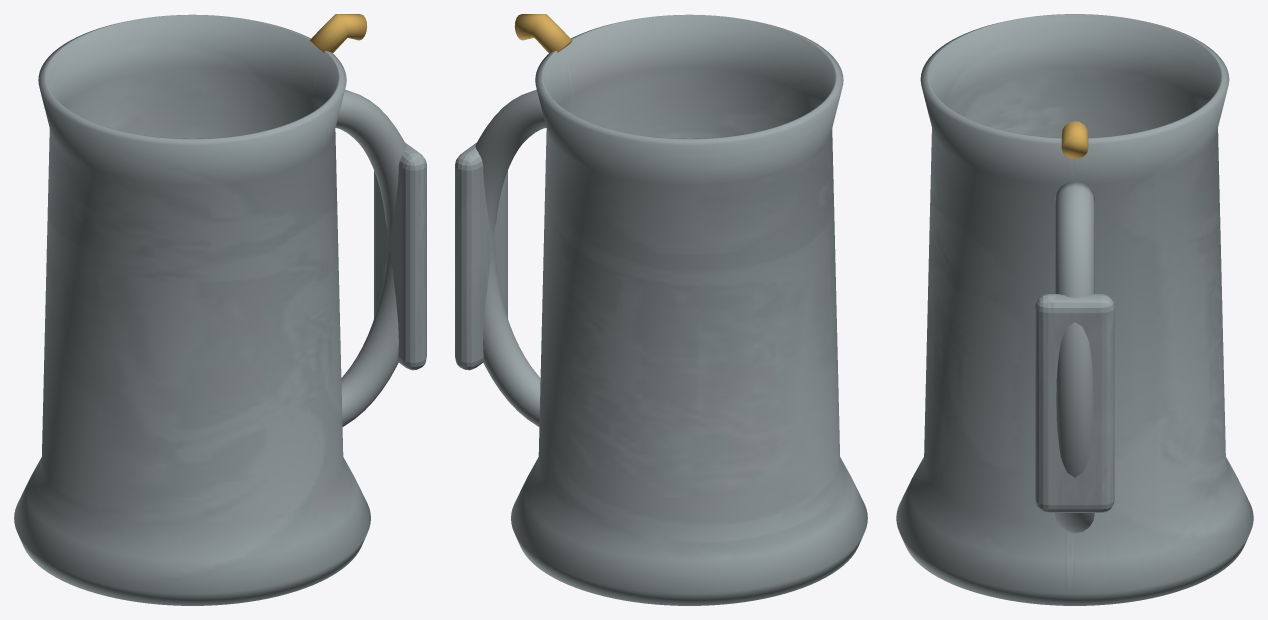
File: dishware__ornate_tankard.glb
3 renders of one model, left to right at view 1: azimuth 30°, elevation 25°; view 2: azimuth 150°, elevation 25°; view 3: azimuth 270°, elevation 25°, orthographic.
Parts seen in each view (by area): view 1: body; view 2: body; view 3: body.
Part boxes in pixels (x1,y1,x2,y2): body: [14, 14, 426, 605]; body: [455, 14, 867, 605]; body: [896, 14, 1253, 605].
Bounding box in the file's own units: 0.1344 × 0.1609 × 0.1078.
Materials: 2 (1 with a texture image).
